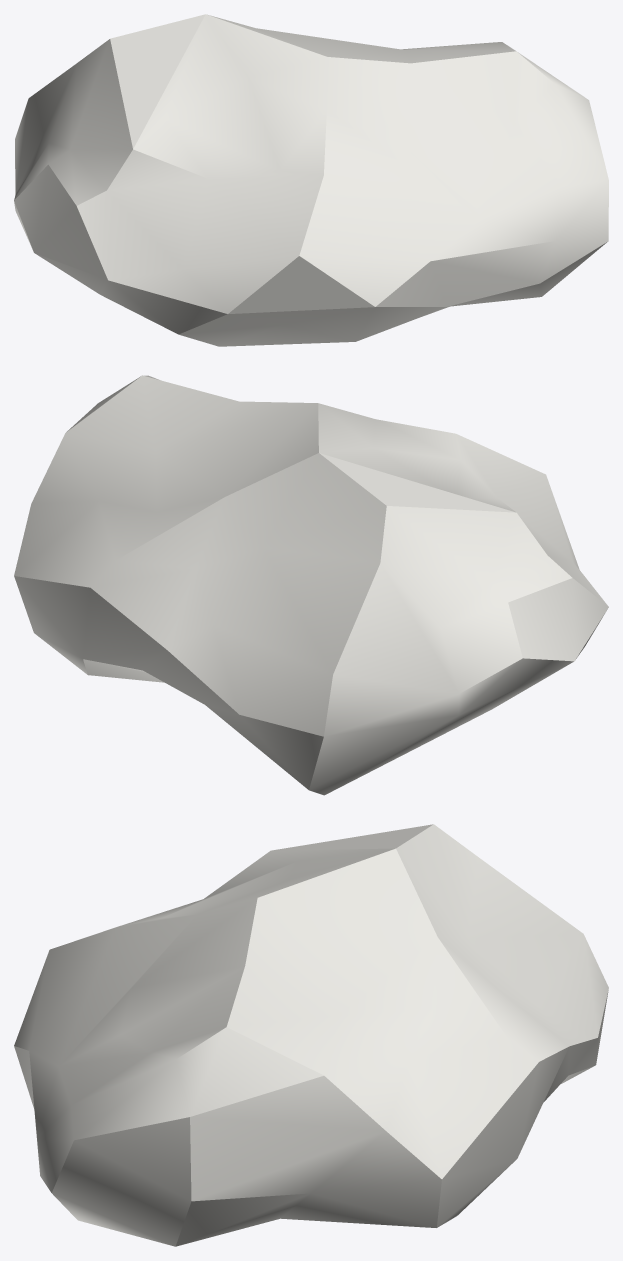
The model's file is rock_3.fbx.
The picture shows the model from 3 angles, top to bottom: view 1: azimuth 30°, elevation 25°; view 2: azimuth 150°, elevation 25°; view 3: azimuth 270°, elevation 25°; orthographic projection. The views are drawn at different scales.
Visible parts, largest first — view 1: rock.070; view 2: rock.070; view 3: rock.070.
Part boxes in pixels (x1,y1,x2,y2): rock.070: (14,14,608,346); rock.070: (14,375,608,795); rock.070: (14,824,608,1246).
Size of the model in its own units: 262 by 129 by 234.
